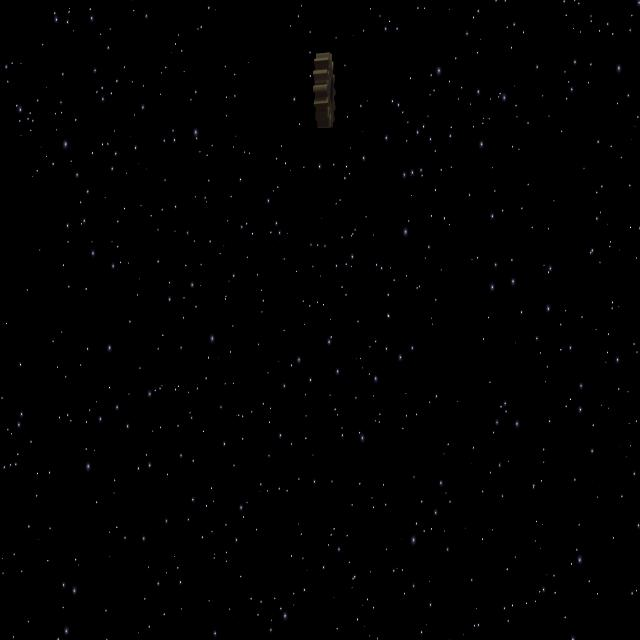large_debris: (312, 52, 339, 129)
